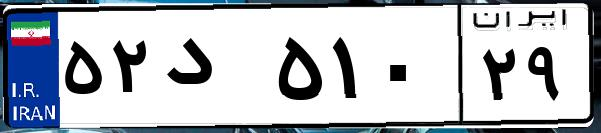0: (385, 28, 445, 110)
1: (330, 28, 385, 110)
2: (475, 38, 525, 113), (110, 28, 158, 98)
5: (270, 28, 330, 110), (57, 26, 110, 100)
9: (525, 38, 570, 115)
د: (158, 20, 270, 120)
